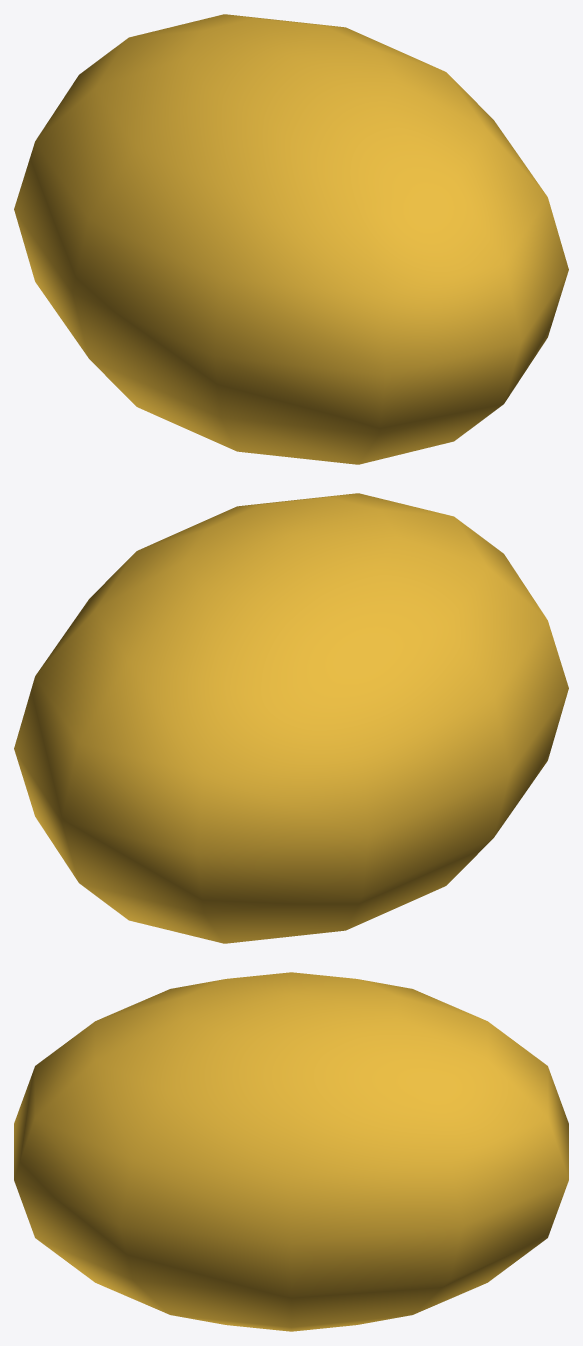
Rendered from corn.glb.
3 views of the same model, one above another, from view 1: azimuth 30°, elevation 25°; view 2: azimuth 150°, elevation 25°; view 3: azimuth 270°, elevation 25° (orthographic). The views are drawn at different scales.
Bounding box in the file's own units: 0.11 × 0.088 × 0.1412.
